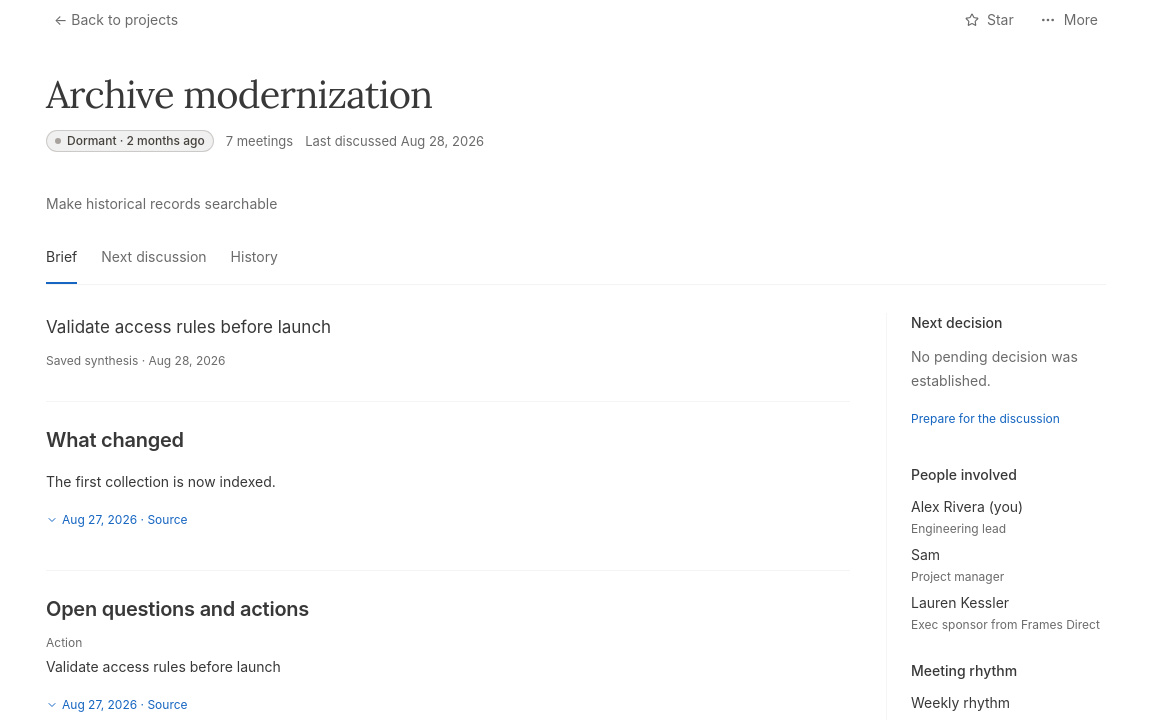
Test case: shows personal commitments only for the established self identity
The image size is (1152, 720).
Click the tab "Next discussion". click: (154, 262)
box: [101,240,207,284]
(page scrolled)
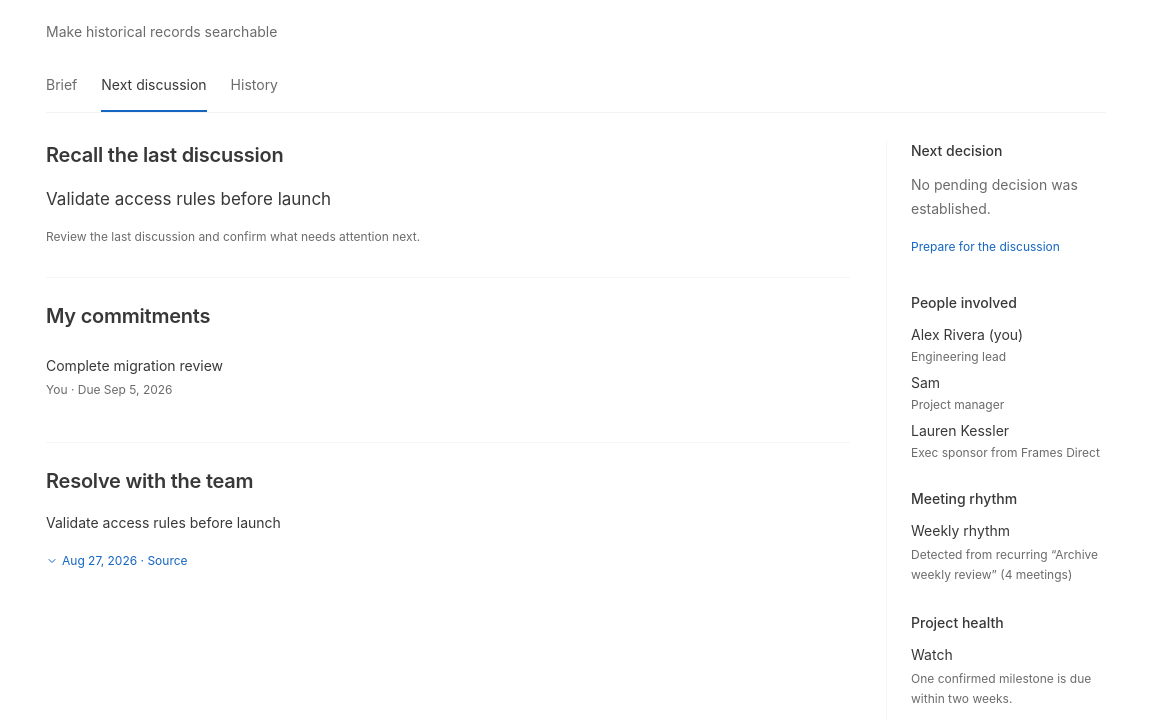
Check: the panel shows "Complete migration review", box [46,357,223,374]
Check: the panel shows "You", box [46,382,68,397]
